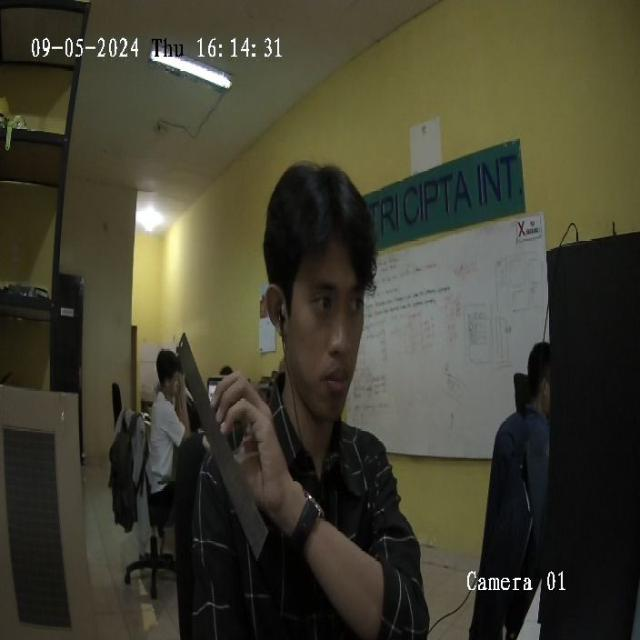Ruler: (179, 334, 266, 558)
